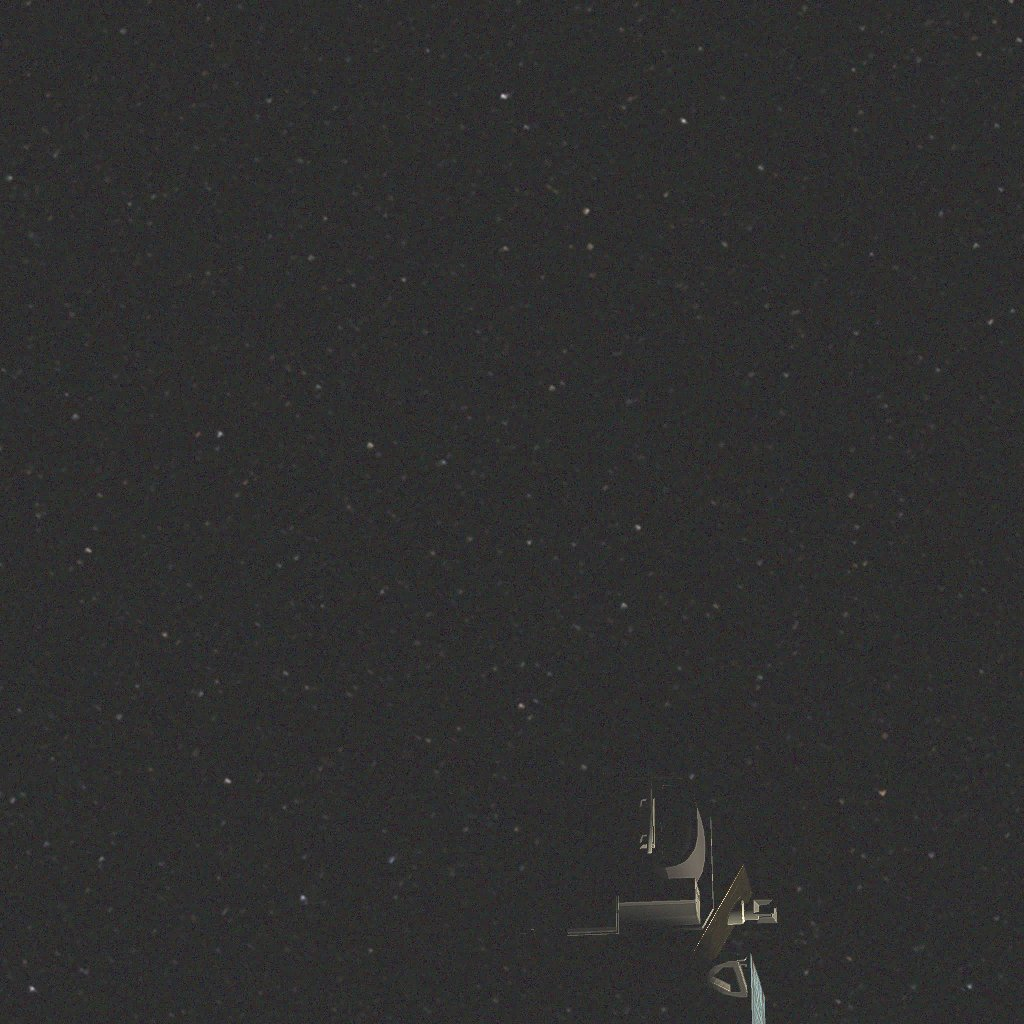earth_observation_sat_1: (504, 767, 777, 1024)
